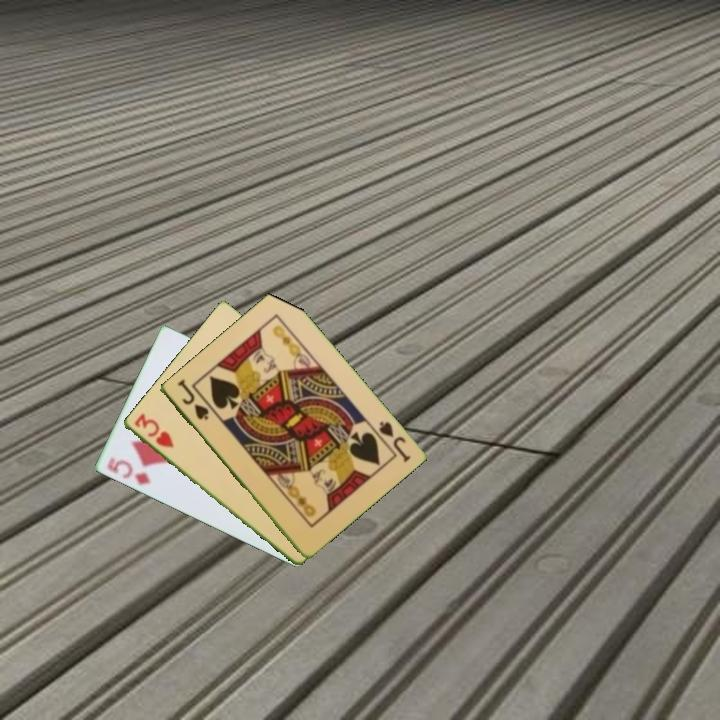3h: (130, 410, 177, 451)
5d: (102, 454, 153, 488)
Js: (375, 417, 413, 465), (173, 377, 211, 423)
